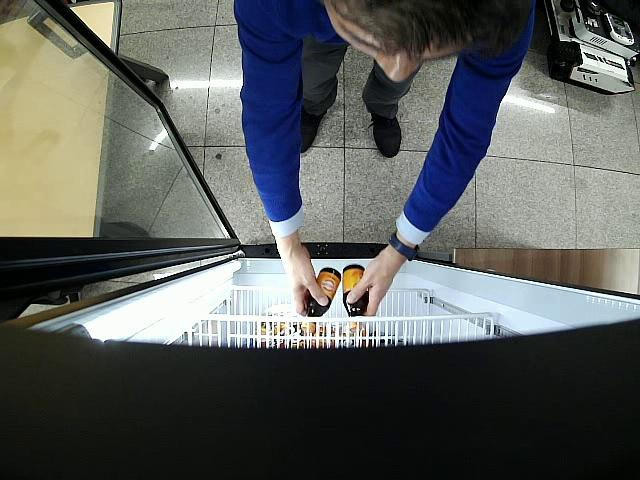00_hand: (348, 249, 408, 318), (279, 243, 329, 316)
17_vita500: (302, 267, 341, 318), (343, 265, 368, 318)
